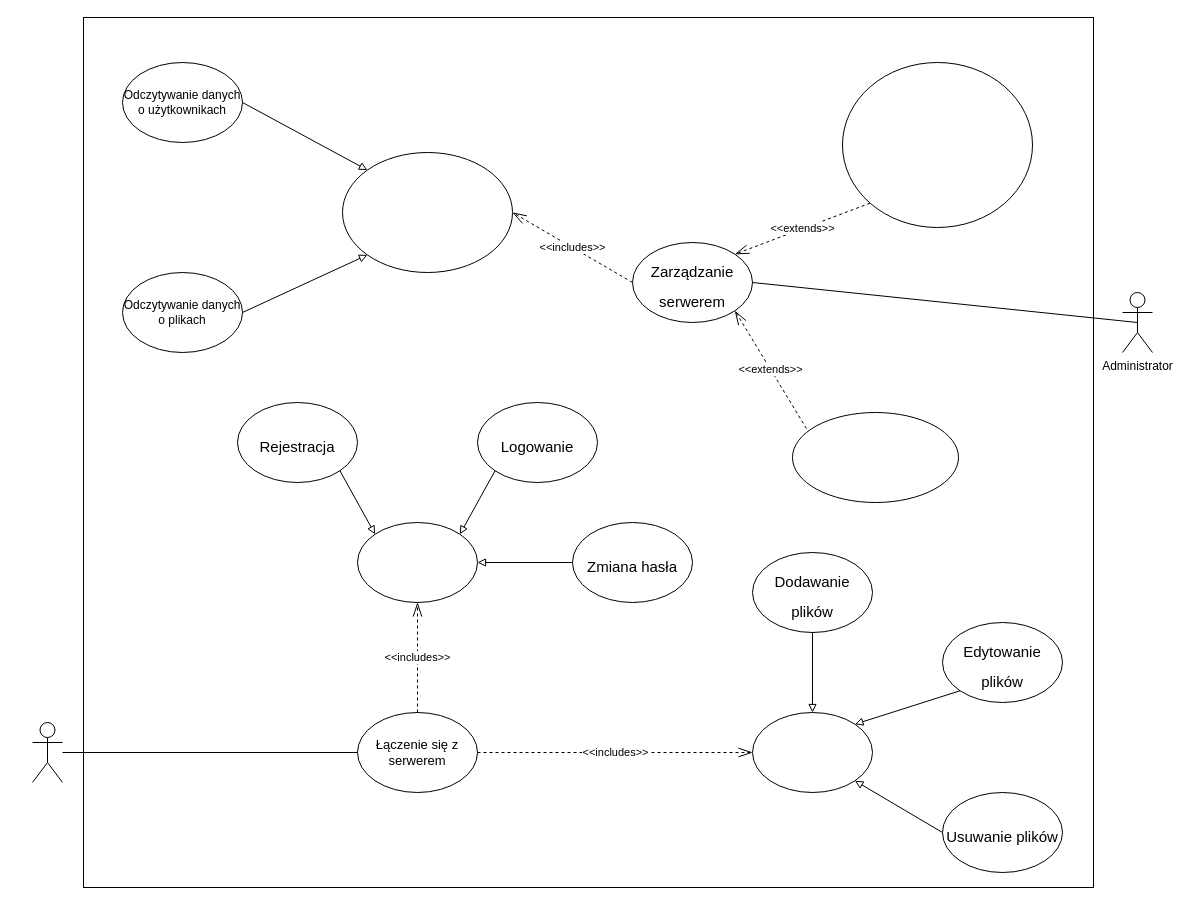
This 1190x905 diagram has some shape labels left out. The shapes that lost their labels are listed below. From the top down, each one's centre as x and y in pixels, then its label:
the point at 937,145: Sprawdzenie poprawności odebranych danych
the point at 427,212: Odczytywanie danych z bazy danych
the point at 875,457: Aktualizacja statusu użytkownika
the point at 417,562: Zarządzanie użytkownikiem
the point at 47,752: Użytkownik
the point at 812,752: Zarządzanie plikami
